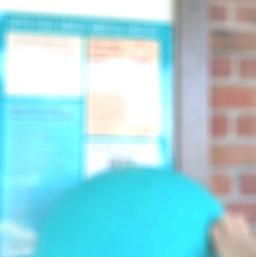algae: (39, 170, 244, 257)
